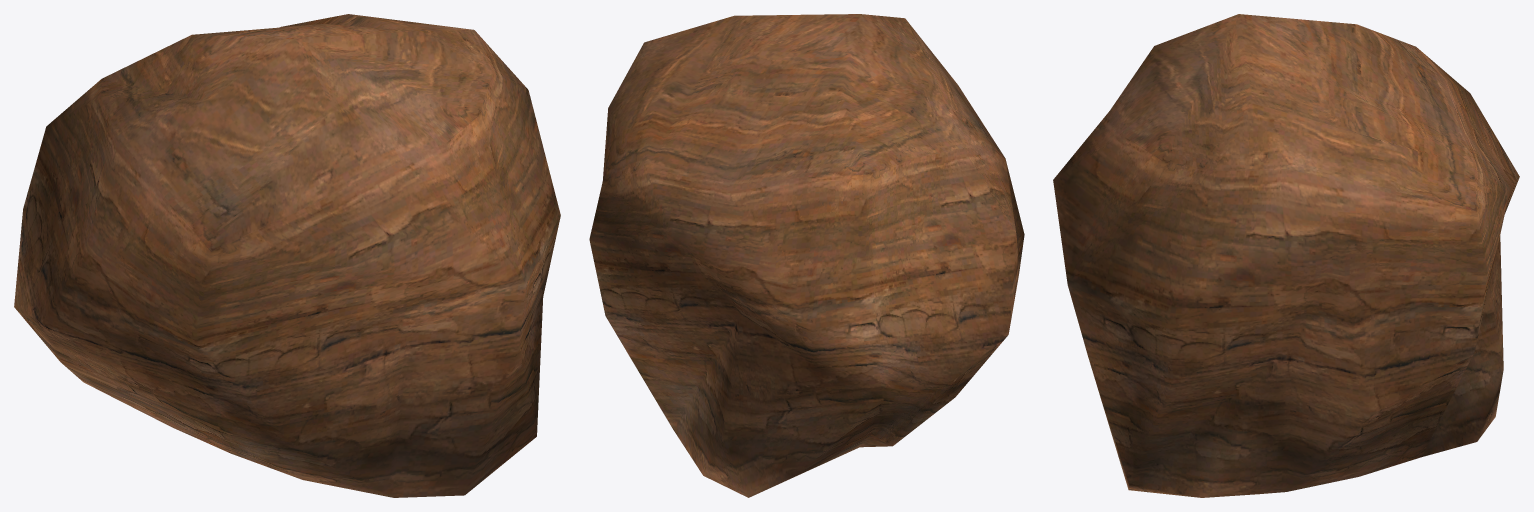
File: rock_tatt_jundland_boulder_a5_l2.fbx
3 views of the same model, side by side, from view 1: azimuth 30°, elevation 25°; view 2: azimuth 150°, elevation 25°; view 3: azimuth 270°, elevation 25° (orthographic). The views are drawn at different scales.
Visible parts, largest first — view 1: mesh_node; view 2: mesh_node; view 3: mesh_node.
Part boxes in pixels (<box>): mesh_node: <box>14,14,560,497</box>; mesh_node: <box>589,14,1024,497</box>; mesh_node: <box>1053,14,1519,497</box>.
Size of the model in its own units: 2.74 by 2.57 by 2.57.
